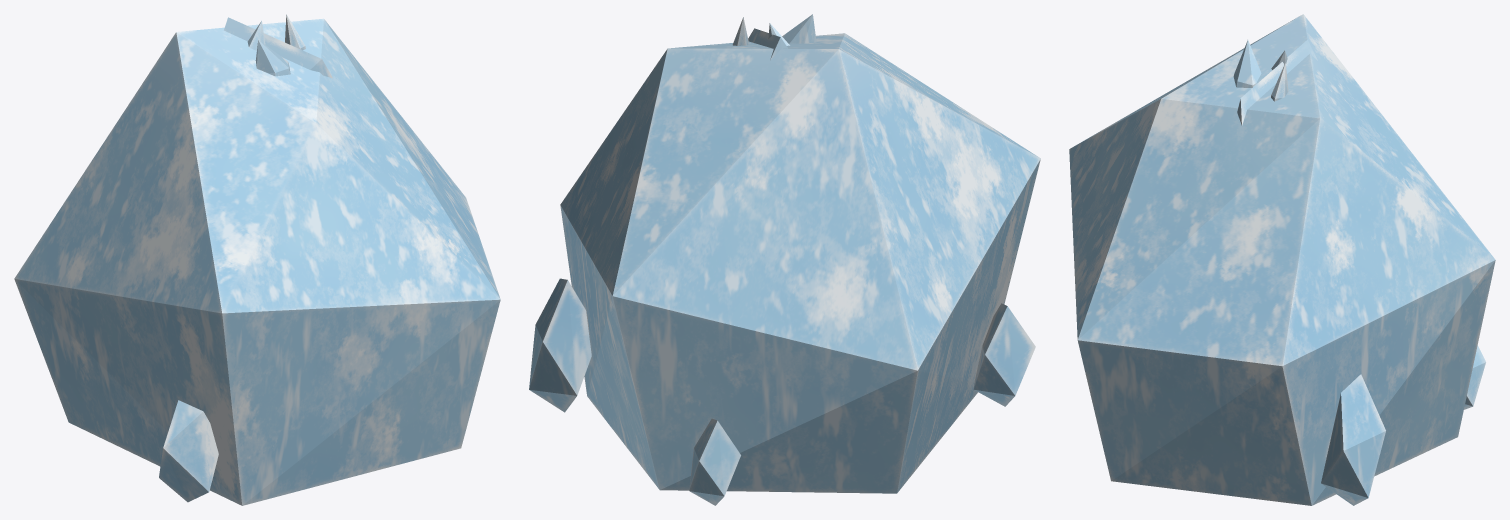
The model's file is ice_kit_v4.glb.
3 renders of one model, left to right at view 1: azimuth 30°, elevation 25°; view 2: azimuth 150°, elevation 25°; view 3: azimuth 270°, elevation 25°, orthographic. The views are drawn at different scales.
Visible parts, largest first — view 1: Ice_Block, Ice_Shard, Ice_SpikeThick; view 2: Ice_Block, Ice_SpikeThick; view 3: Ice_Block, Ice_Shard, Ice_SpikeThick.
Part boxes in pixels (x1=…): Ice_Block: x1=14, y1=18, x2=500, y2=505; Ice_Shard: x1=224, y1=17, x2=332, y2=78; Ice_SpikeThick: x1=255, y1=40, x2=290, y2=76; Ice_Block: x1=529, y1=33, x2=1040, y2=505; Ice_SpikeThick: x1=782, y1=14, x2=816, y2=43; Ice_Block: x1=1069, y1=14, x2=1495, y2=505; Ice_Shard: x1=1237, y1=40, x2=1317, y2=125; Ice_SpikeThick: x1=1233, y1=40, x2=1261, y2=87.
Bounding box in the file's own units: 1.07 × 1 × 1.02.
5 materials, 5 textured.
